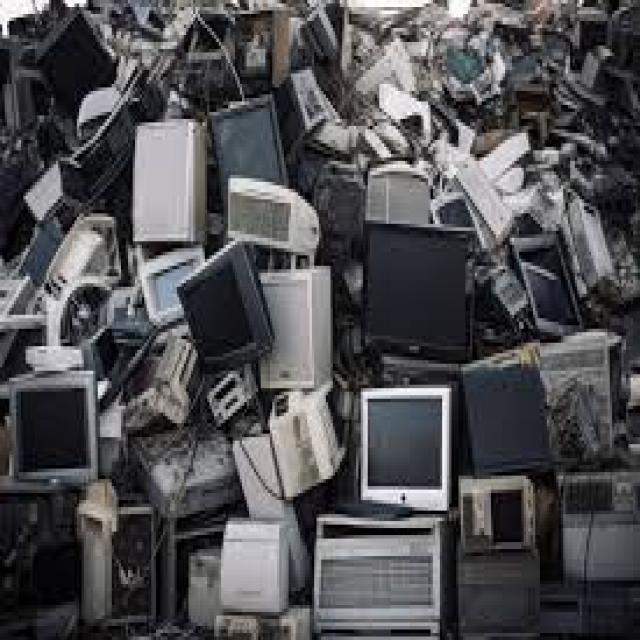hazard: (23, 0, 640, 640)
